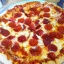pepperoni: (20, 17, 43, 35), (42, 28, 61, 45), (29, 47, 43, 57), (6, 22, 21, 31), (14, 34, 26, 45), (1, 39, 13, 48), (42, 8, 51, 17)
pizza: (1, 1, 64, 64)
